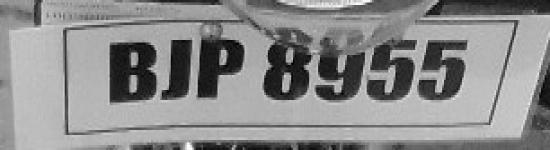5: (366, 28, 417, 120), (417, 35, 472, 118)
8: (264, 33, 314, 105)
9: (315, 30, 366, 114)
B: (105, 34, 160, 109)
J: (164, 33, 195, 106)
P: (197, 32, 247, 105)
